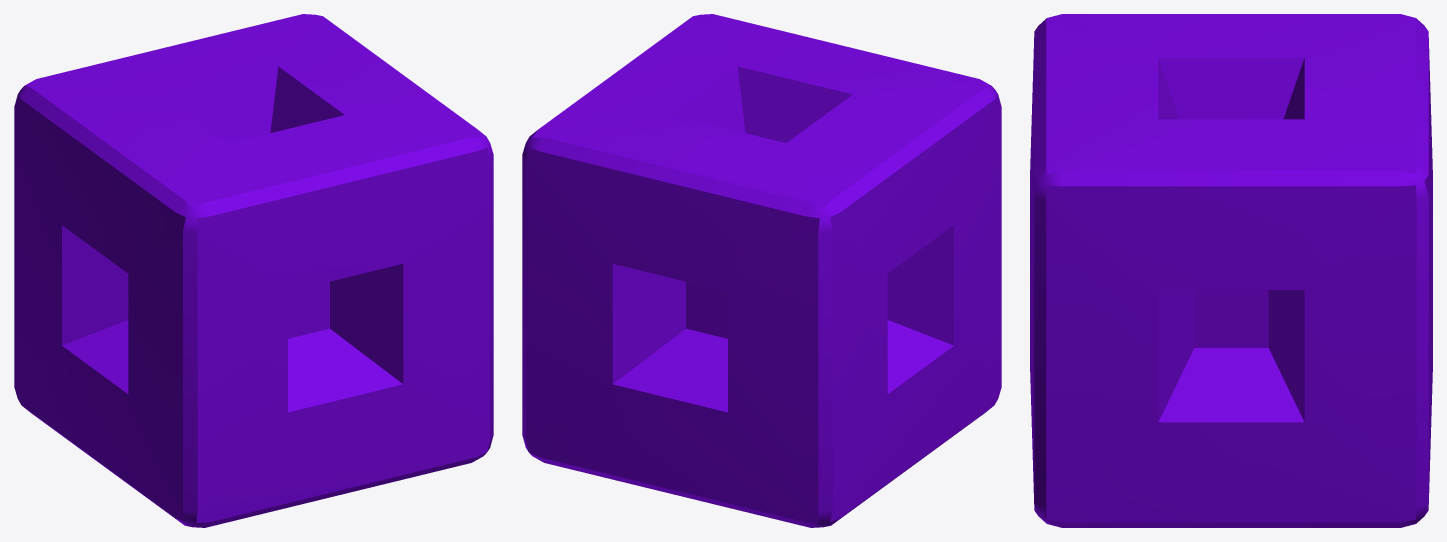
The model's file is cube_propdynamic.glb.
3 renders of one model, left to right at view 1: azimuth 30°, elevation 25°; view 2: azimuth 150°, elevation 25°; view 3: azimuth 270°, elevation 25°, orthographic. The views are drawn at different scales.
Parts seen in each view (by area): view 1: Cube; view 2: Cube; view 3: Cube.
Boxes of the visible parts, <box> form: Cube: <box>14,14,493,527</box>; Cube: <box>522,14,1001,527</box>; Cube: <box>1030,14,1432,527</box>.
Size of the model in its own units: 2 by 2 by 2.
